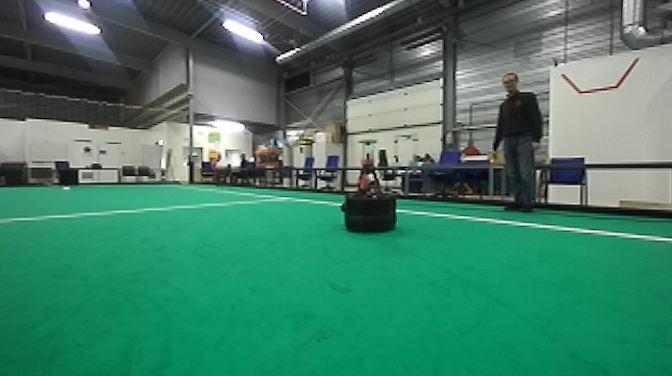human: (482, 68, 547, 221)
robot: (335, 130, 402, 239)
